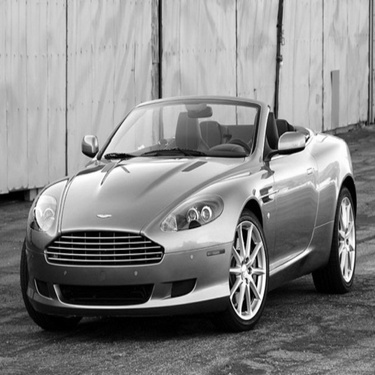car: (9, 92, 366, 339)
